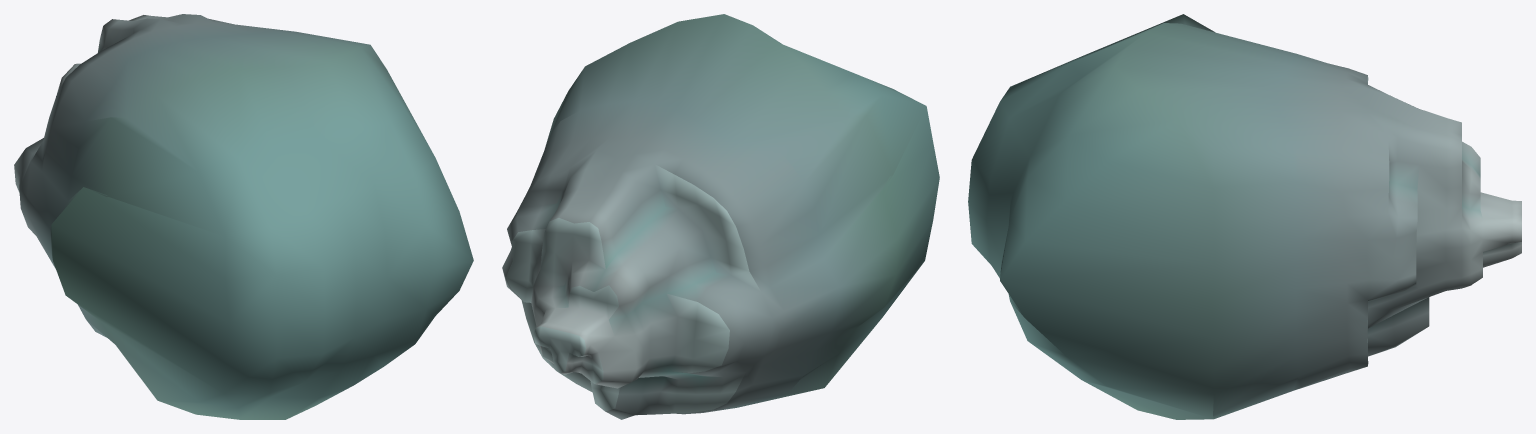
File: Iceberg.001.glb
3 renders of one model, left to right at view 1: azimuth 30°, elevation 25°; view 2: azimuth 150°, elevation 25°; view 3: azimuth 270°, elevation 25°, orthographic. The views are drawn at different scales.
Visible parts, largest first — view 1: Iceberg.001; view 2: Iceberg.001; view 3: Iceberg.001.
Part boxes in pixels (x1=…): Iceberg.001: x1=14, y1=14, x2=473, y2=419; Iceberg.001: x1=502, y1=14, x2=939, y2=419; Iceberg.001: x1=968, y1=14, x2=1521, y2=419.
Bounding box in the file's own units: 716 × 672 × 974.
